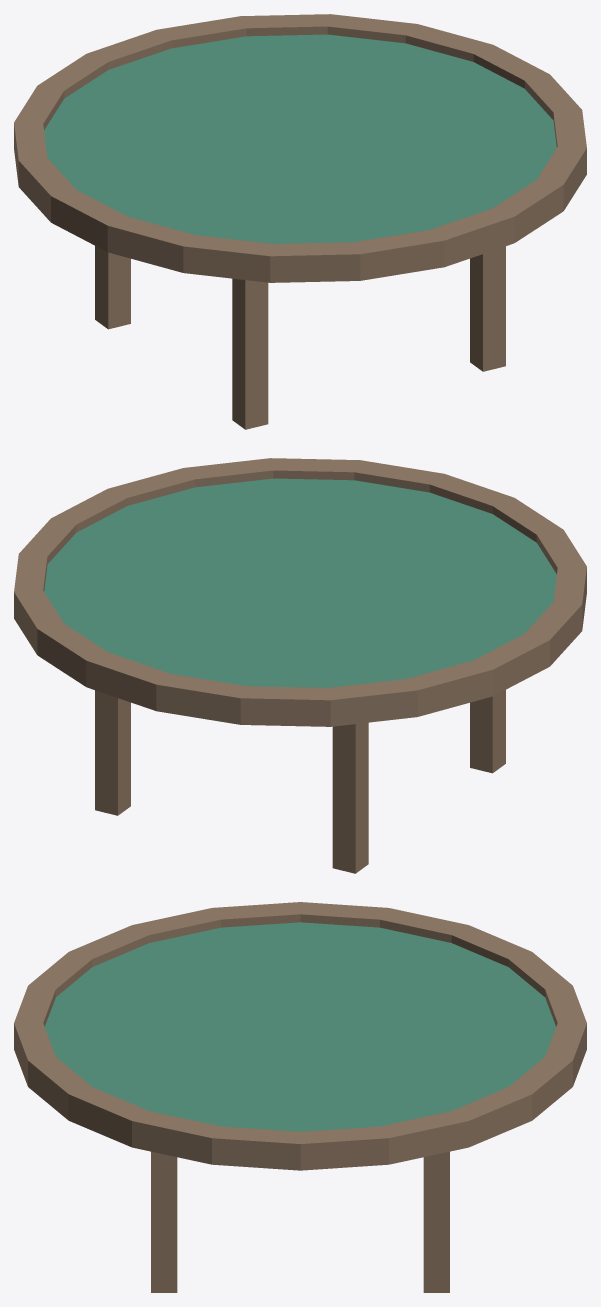
Rendered from card-table.glb.
3 renders of one model, top to bottom at view 1: azimuth 30°, elevation 25°; view 2: azimuth 150°, elevation 25°; view 3: azimuth 270°, elevation 25°, orthographic.
Parts seen in each view (by area): view 1: geometry_0; view 2: geometry_0; view 3: geometry_0.
Part boxes in pixels (box(x1,y1,x2,y2)): geometry_0: box(14, 14, 586, 429); geometry_0: box(14, 458, 586, 873); geometry_0: box(14, 902, 586, 1292).
Bounding box in the file's own units: 0.98 × 0.39 × 0.98.
